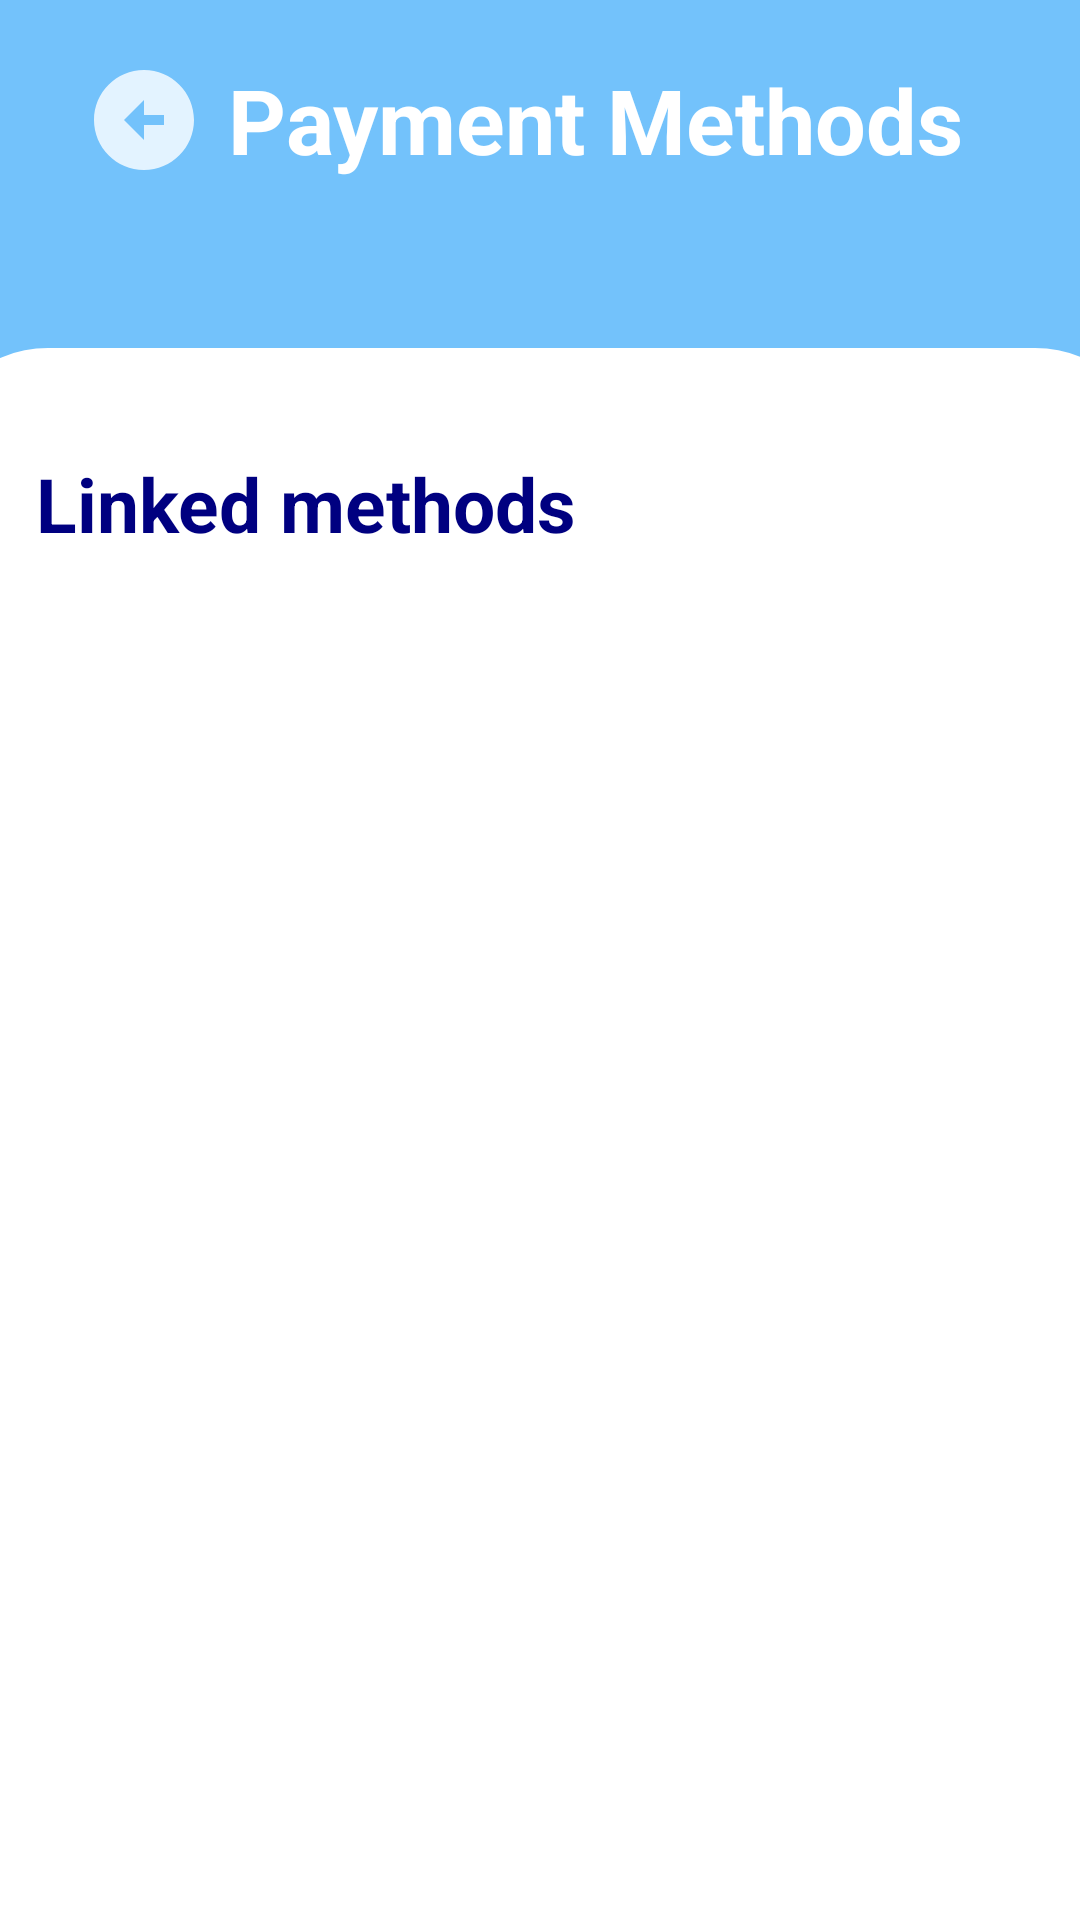

Locate icon controls on the screen. Image size 1080w x 1920h, boxes as box(x1, y1, x2, y2).
back: box(94, 70, 194, 170)
